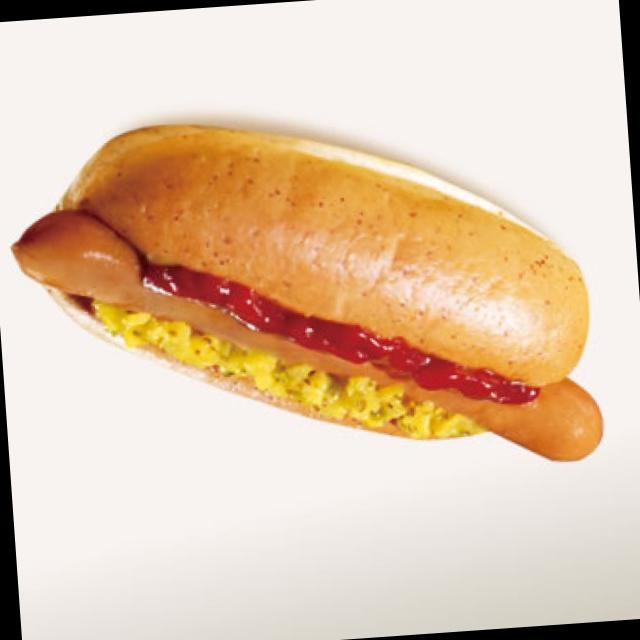Hot Dog: (0, 78, 610, 505)
